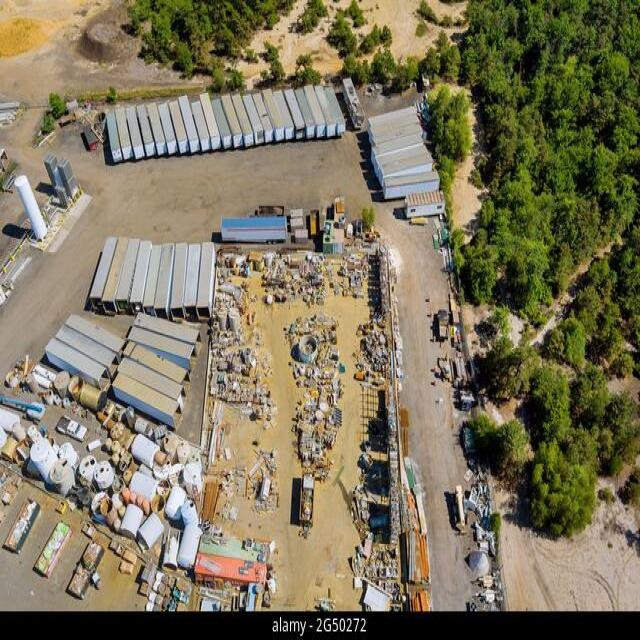metal: (6, 408, 201, 551), (64, 222, 222, 381), (98, 90, 348, 169), (367, 99, 444, 205)
trash: (213, 278, 392, 498)
